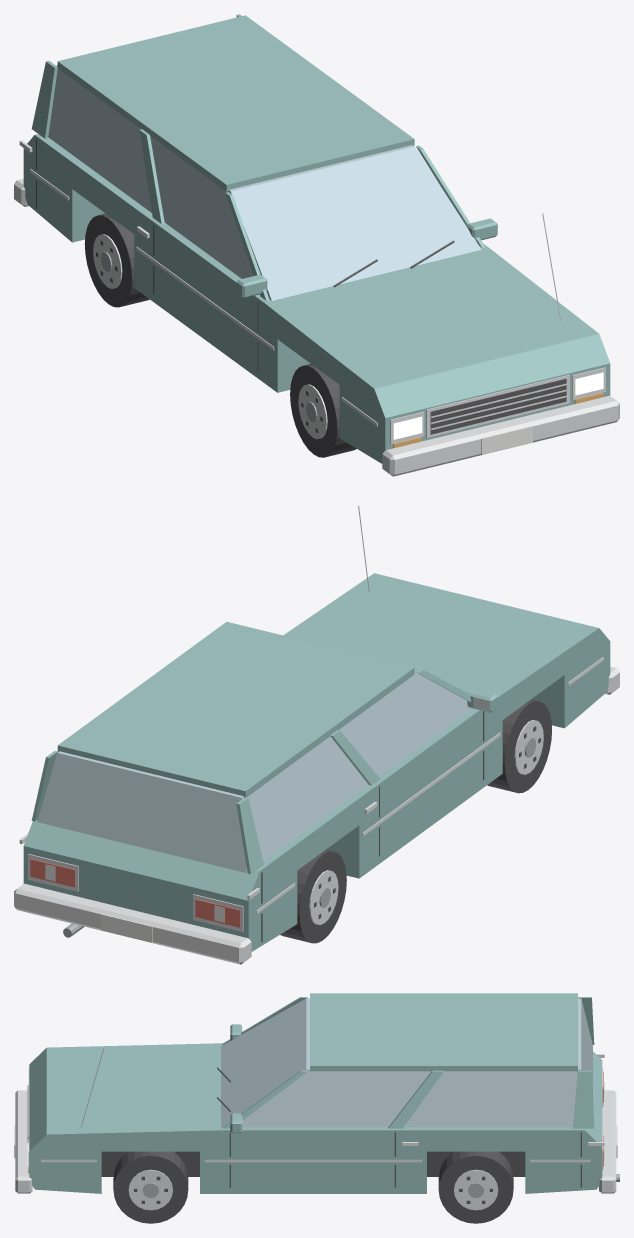
Rendered from car_wagon_t.glb.
3 views of the same model, one above another, from view 1: azimuth 30°, elevation 25°; view 2: azimuth 150°, elevation 25°; view 3: azimuth 270°, elevation 25° (orthographic). The views are drawn at different scales.
Parts seen in each view (by area): view 1: car_wagon_t_car_t, car_wagon_t_glass, car_wagon_t_chrome, car_wagon_t_rubber, car_wagon_t_dark, car_wagon_t_lamp_glass, car_wagon_t_paint_w; view 2: car_wagon_t_car_t, car_wagon_t_glass, car_wagon_t_chrome, car_wagon_t_rubber, car_wagon_t_neon_r, car_wagon_t_paint_w; view 3: car_wagon_t_car_t, car_wagon_t_glass, car_wagon_t_rubber, car_wagon_t_chrome, car_wagon_t_dark, car_wagon_t_steel.
Part boxes in pixels (x1,y1,x2,y2): car_wagon_t_car_t: (23,14,610,463); car_wagon_t_glass: (48,64,481,300); car_wagon_t_chrome: (14,140,619,476); car_wagon_t_rubber: (84,213,356,457); car_wagon_t_dark: (36,138,566,434); car_wagon_t_lamp_glass: (393,372,603,439); car_wagon_t_paint_w: (481,426,532,454); car_wagon_t_car_t: (23,573,610,951); car_wagon_t_glass: (37,671,471,872); car_wagon_t_chrome: (14,505,619,964); car_wagon_t_rubber: (280,699,551,943); car_wagon_t_neon_r: (30,859,240,927); car_wagon_t_paint_w: (45,864,224,942); car_wagon_t_car_t: (29,993,602,1193); car_wagon_t_glass: (221,998,592,1127); car_wagon_t_rubber: (101,1151,525,1223); car_wagon_t_chrome: (15,1048,616,1210); car_wagon_t_dark: (27,1067,581,1203); car_wagon_t_steel: (142,1174,619,1197).
Bounding box in the file's own units: 2 × 1.6 × 5.18.
